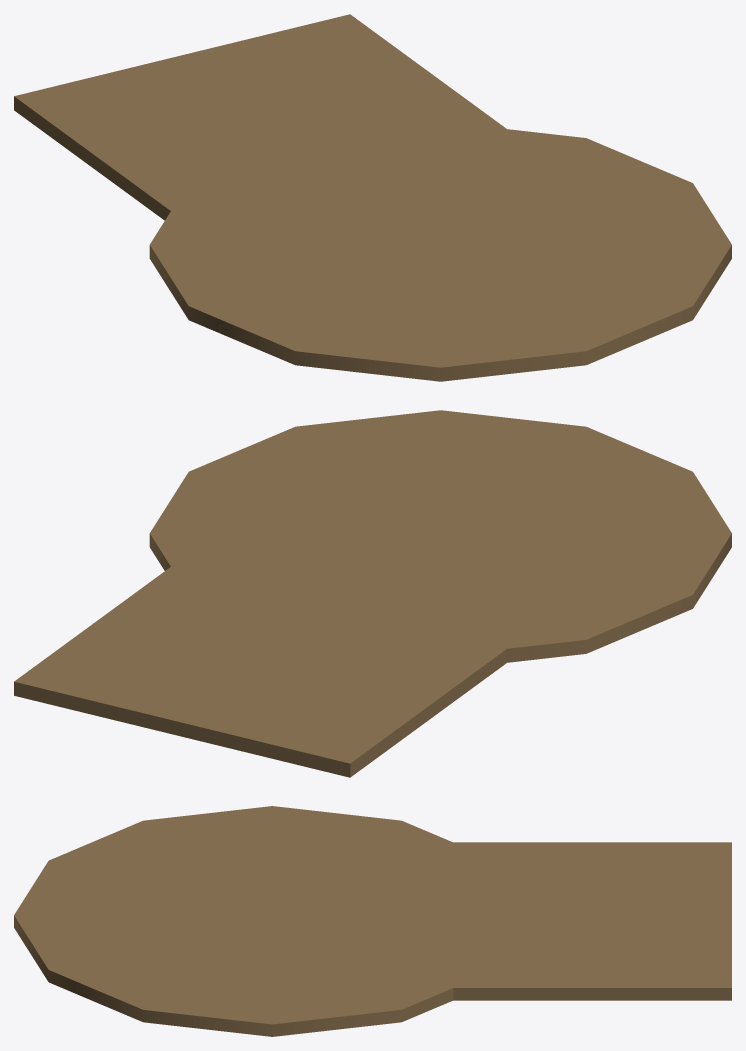
The model's file is road_dirt_dead_end.glb.
The picture shows the model from 3 angles, top to bottom: view 1: azimuth 30°, elevation 25°; view 2: azimuth 150°, elevation 25°; view 3: azimuth 270°, elevation 25°; orthographic projection. The views are drawn at different scales.
Parts seen in each view (by area): view 1: body; view 2: body; view 3: body.
Part boxes in pixels (box(x1,y1,x2,y2)): body: box(14, 14, 731, 381); body: box(14, 410, 731, 777); body: box(14, 806, 731, 1036).
Size of what is drawn, in the model's own units: 4.5 by 0.12 by 6.25.
